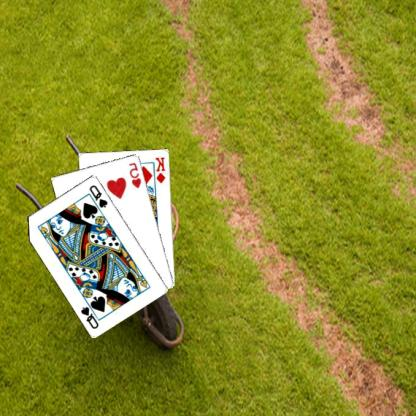5H: (128, 160, 144, 189)
KD: (154, 154, 168, 185)
QS: (80, 304, 102, 330), (89, 182, 110, 209)
